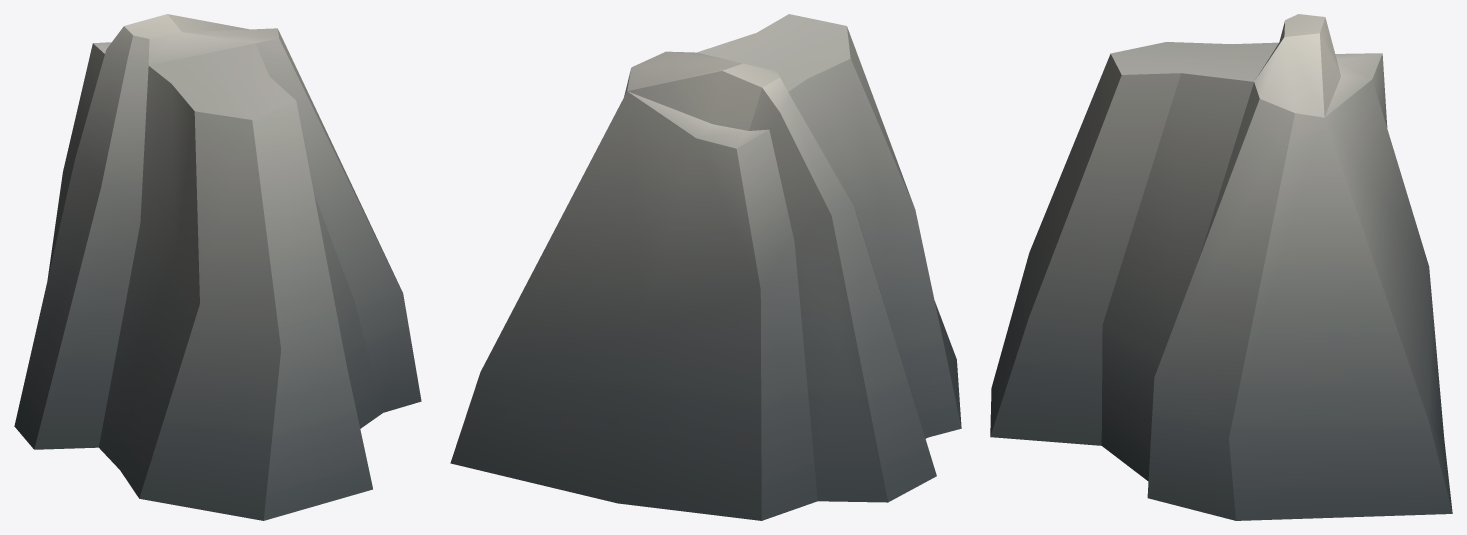
File: Rock_Medium_F.fbx
3 renders of one model, left to right at view 1: azimuth 30°, elevation 25°; view 2: azimuth 150°, elevation 25°; view 3: azimuth 270°, elevation 25°, orthographic. The views are drawn at different scales.
Parts seen in each view (by area): view 1: Rock_Medium_F; view 2: Rock_Medium_F; view 3: Rock_Medium_F.
Boxes of the visible parts, box(x1,y1,x2,y2) form: Rock_Medium_F: box(14, 14, 421, 520); Rock_Medium_F: box(450, 14, 961, 520); Rock_Medium_F: box(990, 14, 1452, 520).
Bounding box in the file's own units: 372 × 390 × 365.
1 material, 1 textured.
